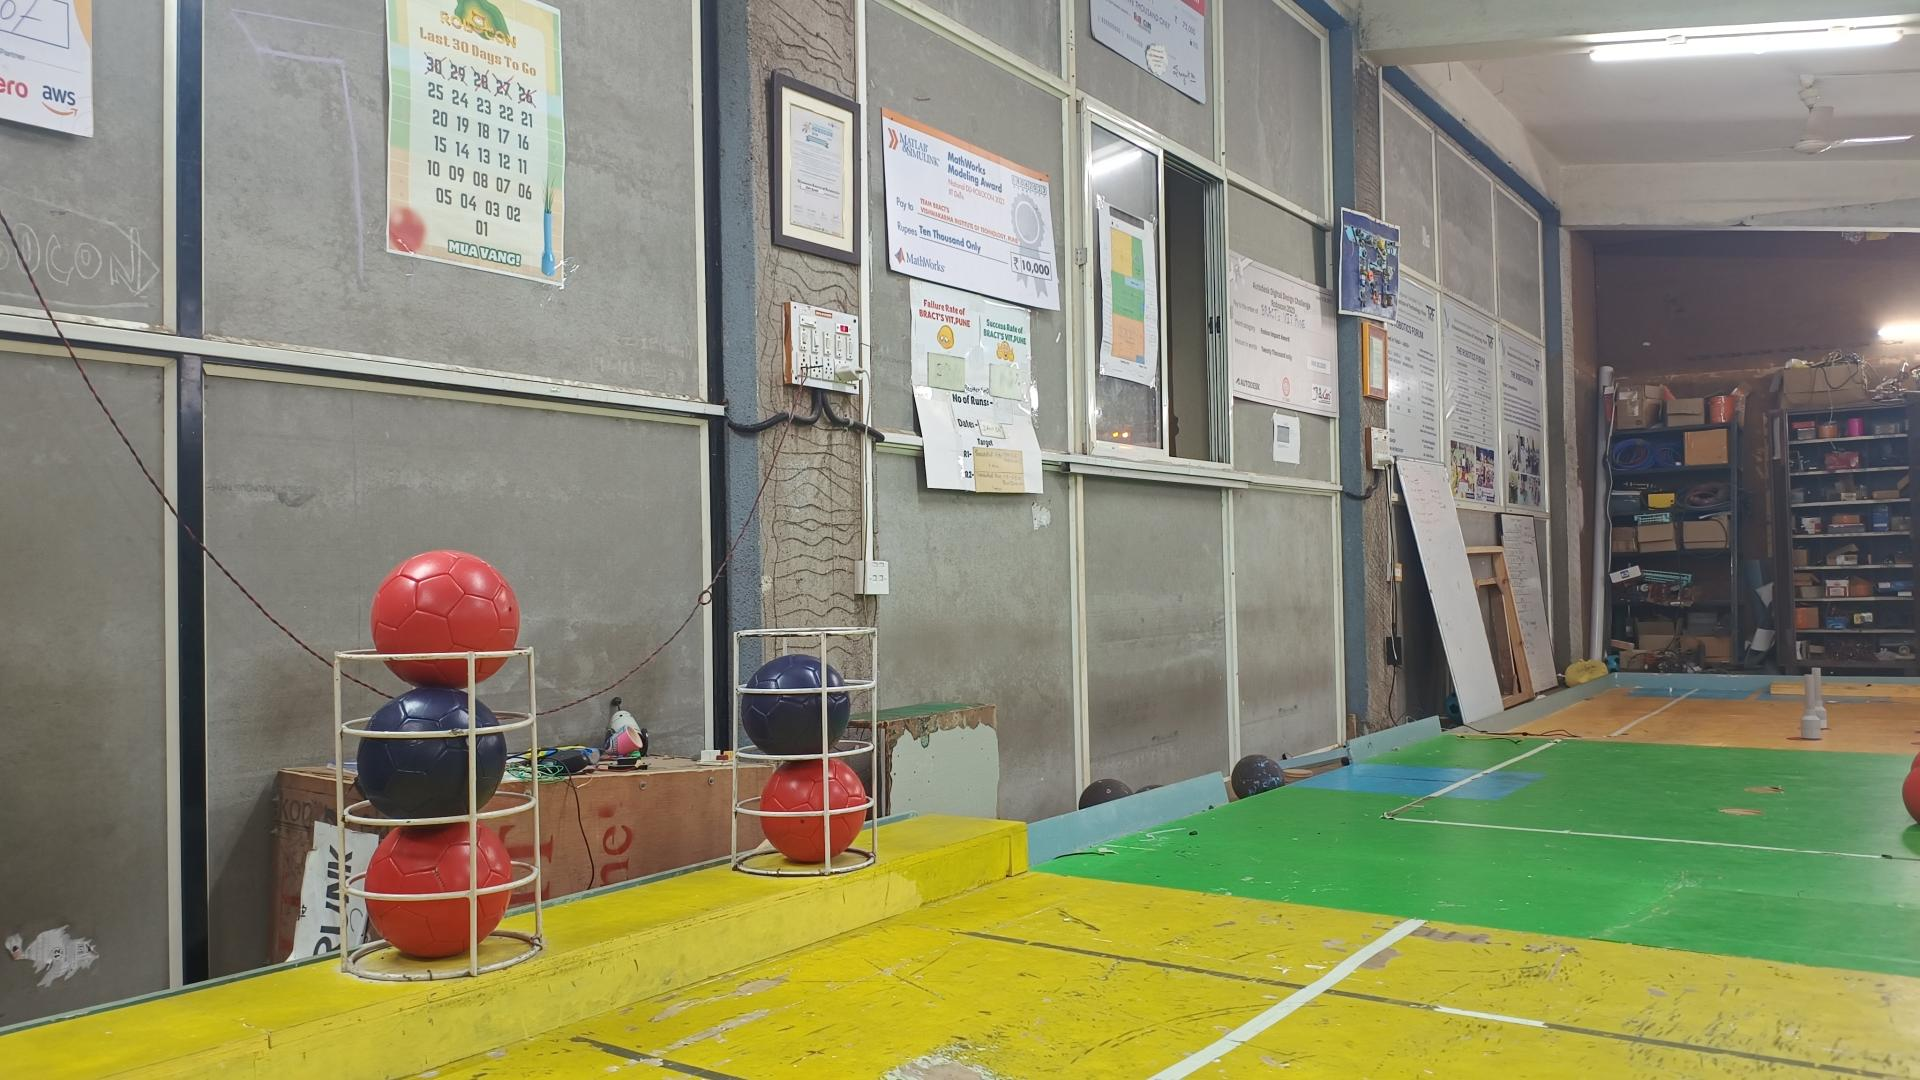dhoka: (356, 686, 506, 822), (738, 653, 852, 757)
laale: (364, 822, 514, 960), (372, 551, 521, 690), (757, 757, 870, 862)
